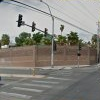crosswalk: (0, 79, 60, 98)
